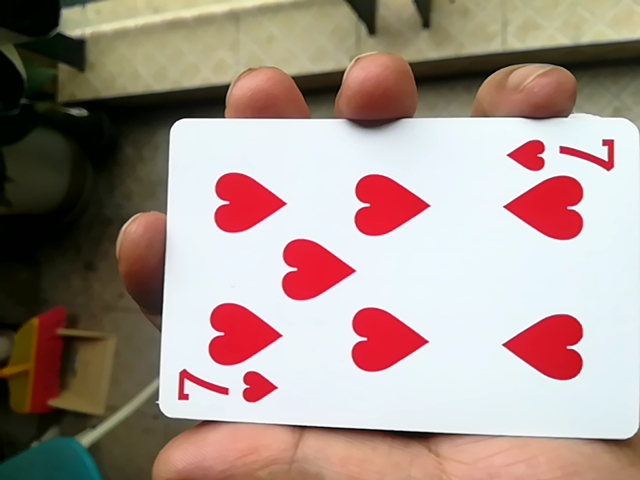hx 7: (140, 117, 637, 448)
